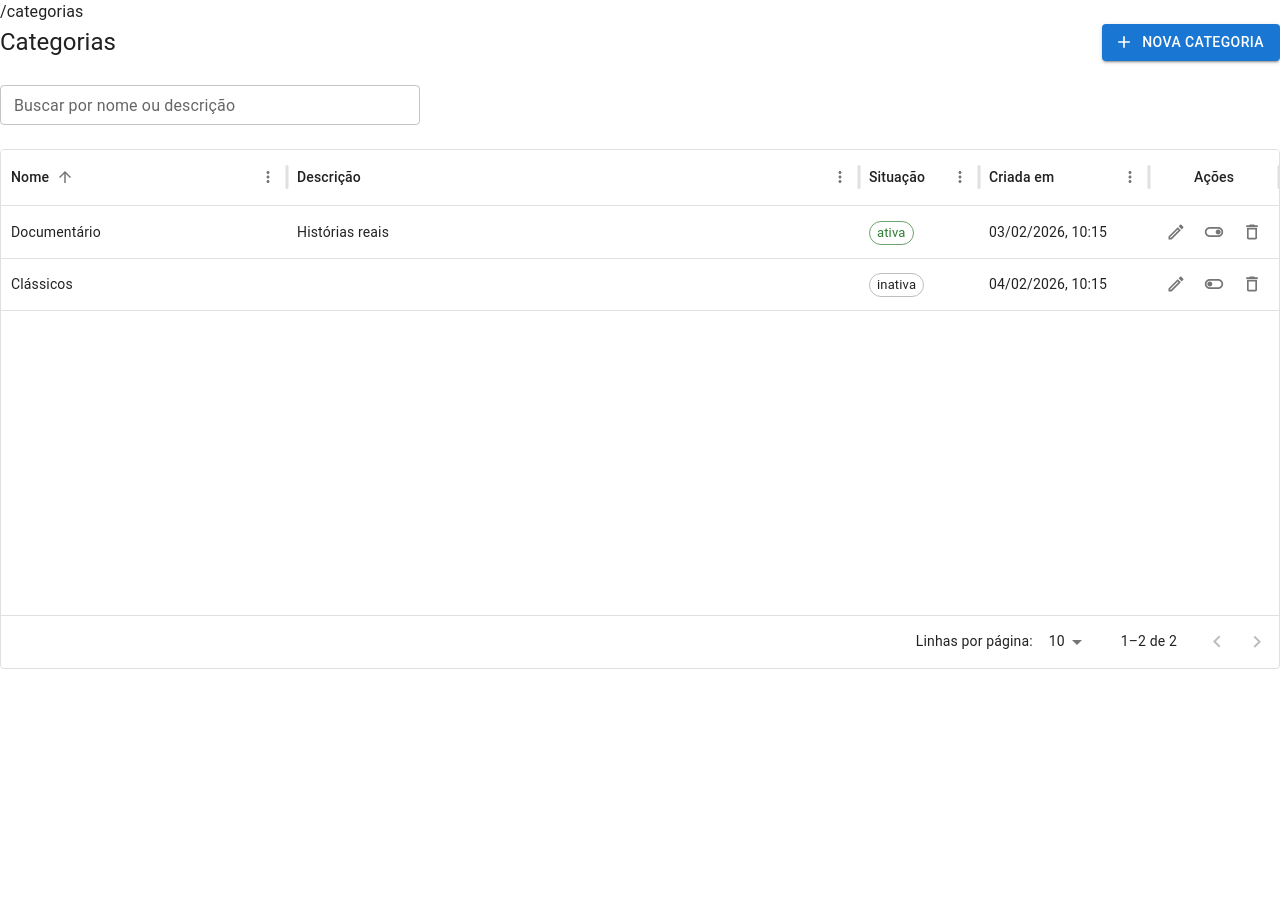
Test case: CategoryList › as ações da linha › givenUmaCategoria_whenClicaEmRemover_thenPerguntaAntesDeChamar
expect the text "Documentário" is shown: met, box [11, 224, 101, 240]
Click the menu item named "Remover" in the row of "Documentário". click: (1252, 232)
box: [1237, 217, 1267, 247]
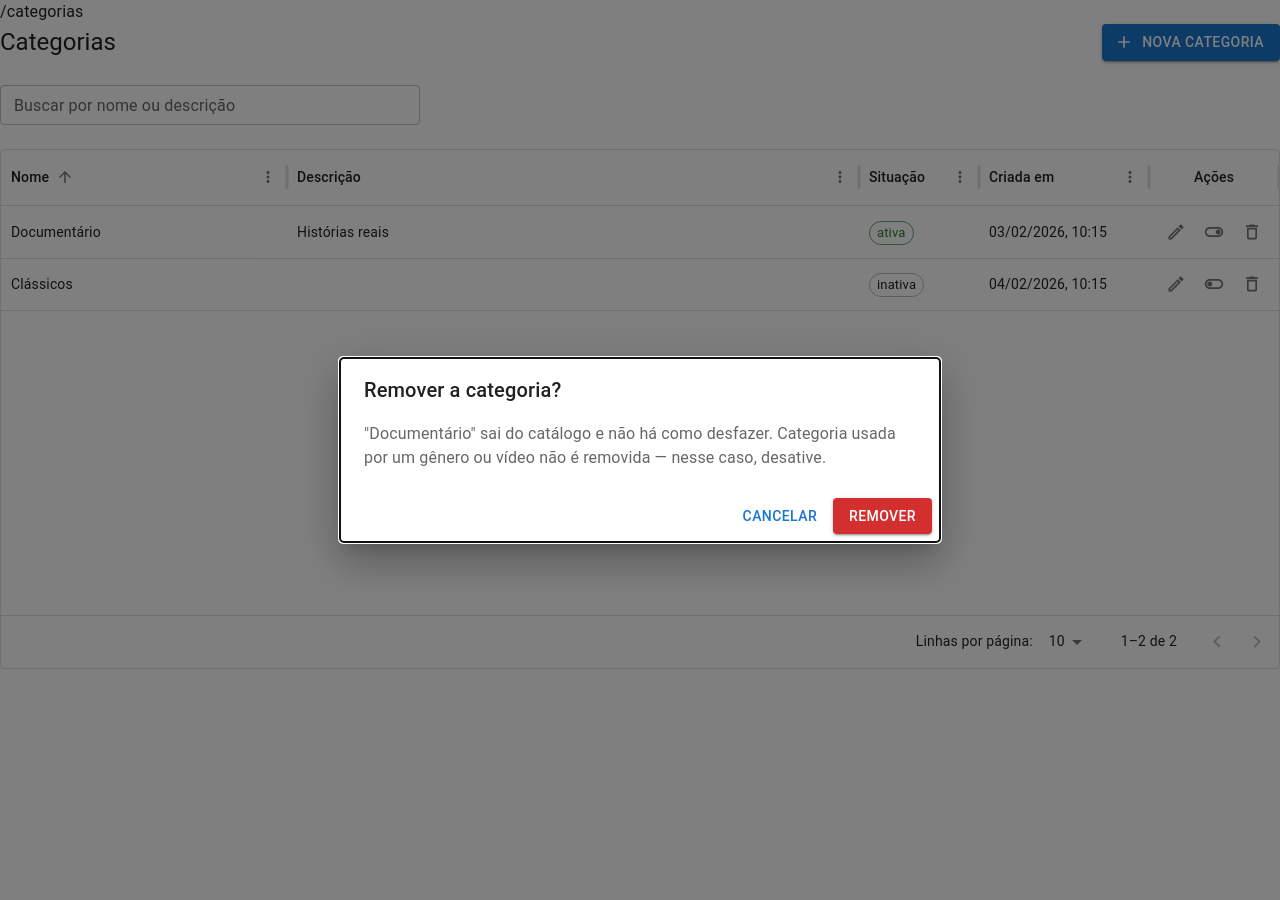
expect the heading "Remover a categoria?" is shown: met, box [364, 378, 561, 402]
